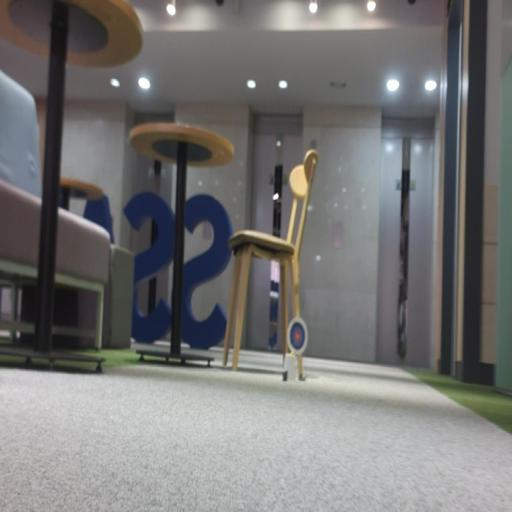target: (286, 317, 307, 356)
